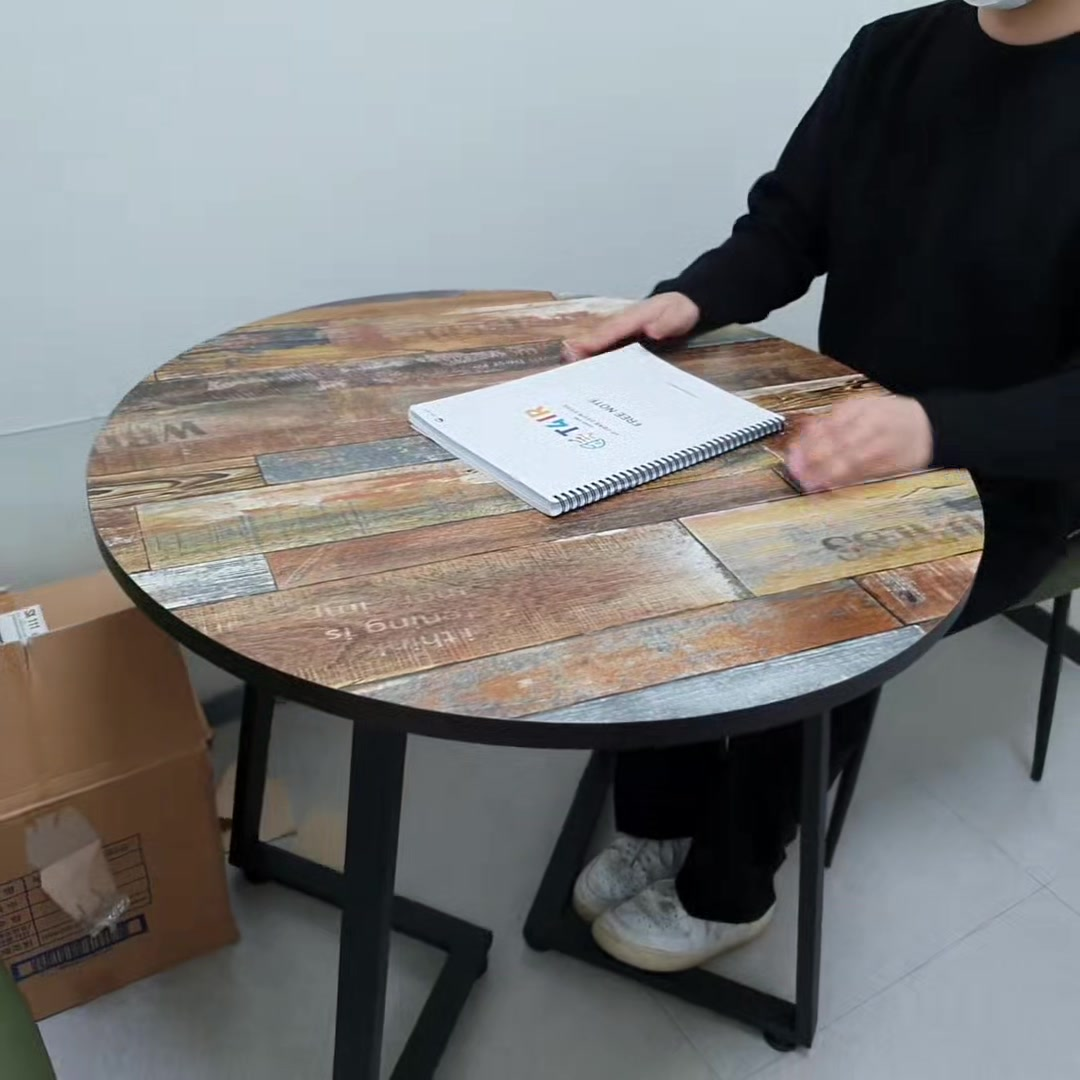book: (396, 326, 792, 529)
